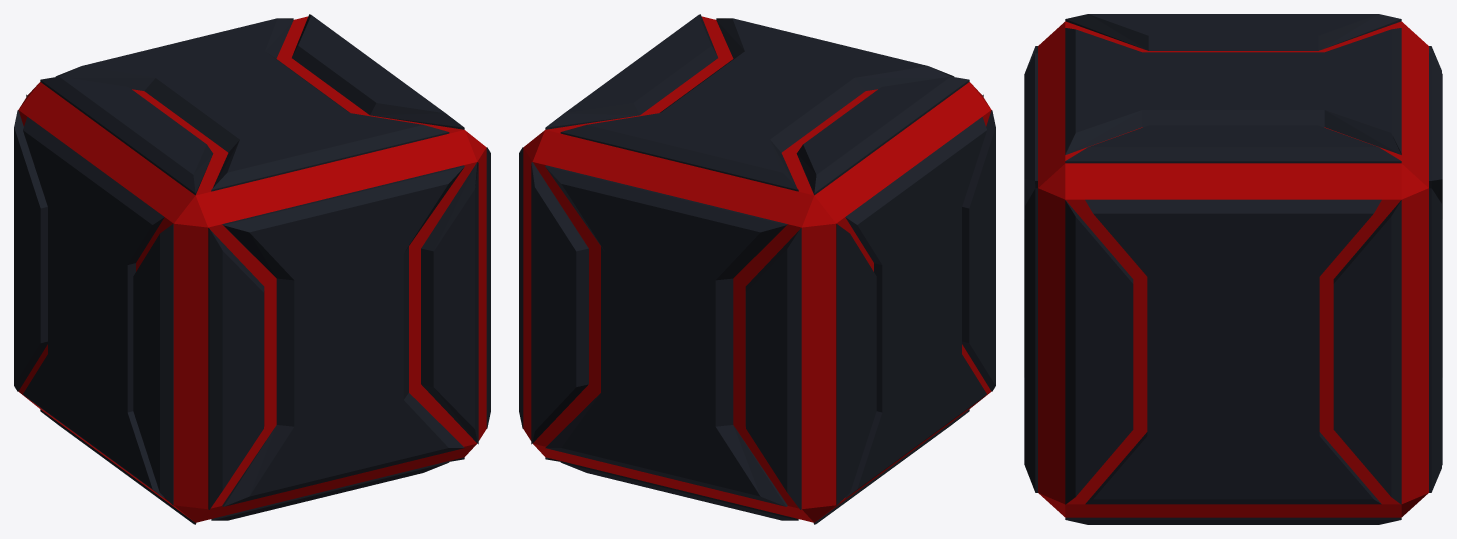
File: redcube.fbx
3 views of the same model, side by side, from view 1: azimuth 30°, elevation 25°; view 2: azimuth 150°, elevation 25°; view 3: azimuth 270°, elevation 25° (orthographic). The views are drawn at different scales.
Visible parts, largest first — view 1: pCube13; view 2: pCube13; view 3: pCube13.
Boxes of the visible parts, left/top/right/bottom form: pCube13: left=14, top=14, right=490, bottom=524; pCube13: left=519, top=14, right=995, bottom=524; pCube13: left=1024, top=14, right=1442, bottom=524.
Size of the model in its own units: 10.58 by 10.66 by 10.7.
